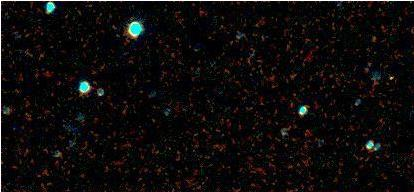star: (375, 64, 405, 94)
